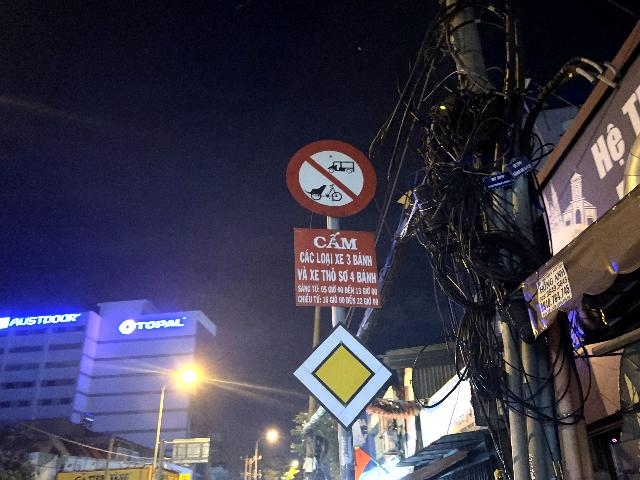bat-dau-duong-uu-tien: (292, 320, 395, 431)
cam-xe-3-banh-xe-tho-so-4-banh: (286, 138, 377, 217)
